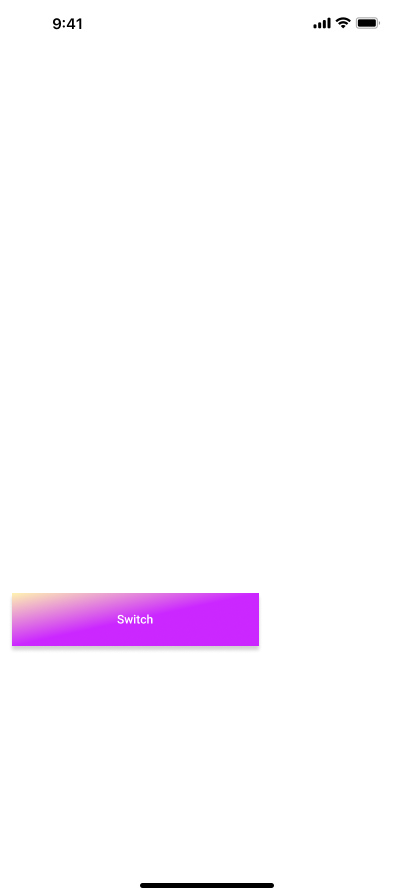Buttons: (8, 593, 263, 654)
Home Indicator: (0, 862, 414, 896)
Status Bar: (0, 0, 414, 44)
